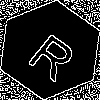R: (25, 25, 86, 83)
